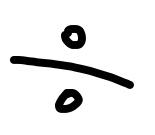div: (9, 23, 134, 113)
